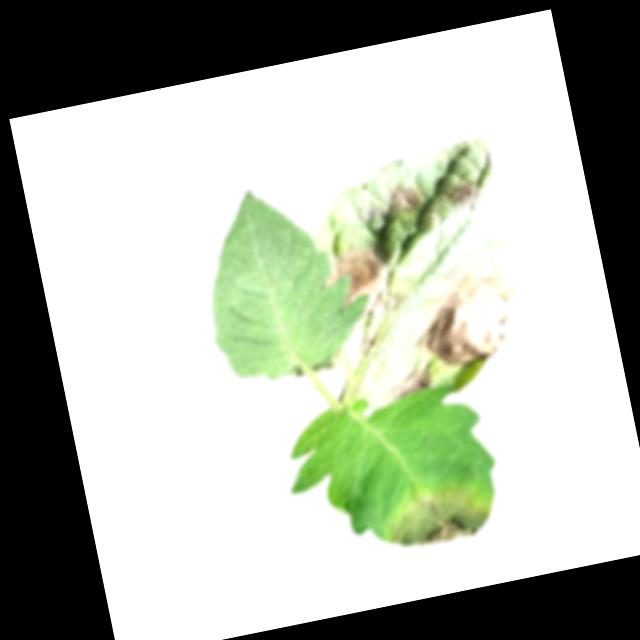Late_blight: (400, 252, 530, 374), (378, 478, 494, 553), (322, 244, 400, 326), (352, 176, 427, 225), (377, 365, 434, 403), (445, 178, 488, 217), (356, 331, 381, 357)
healthy: (187, 170, 382, 388)
